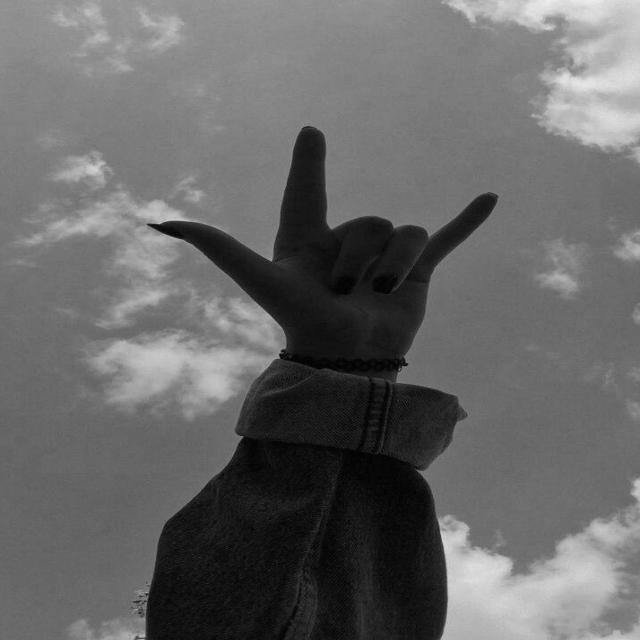i love you: (143, 121, 507, 382)
